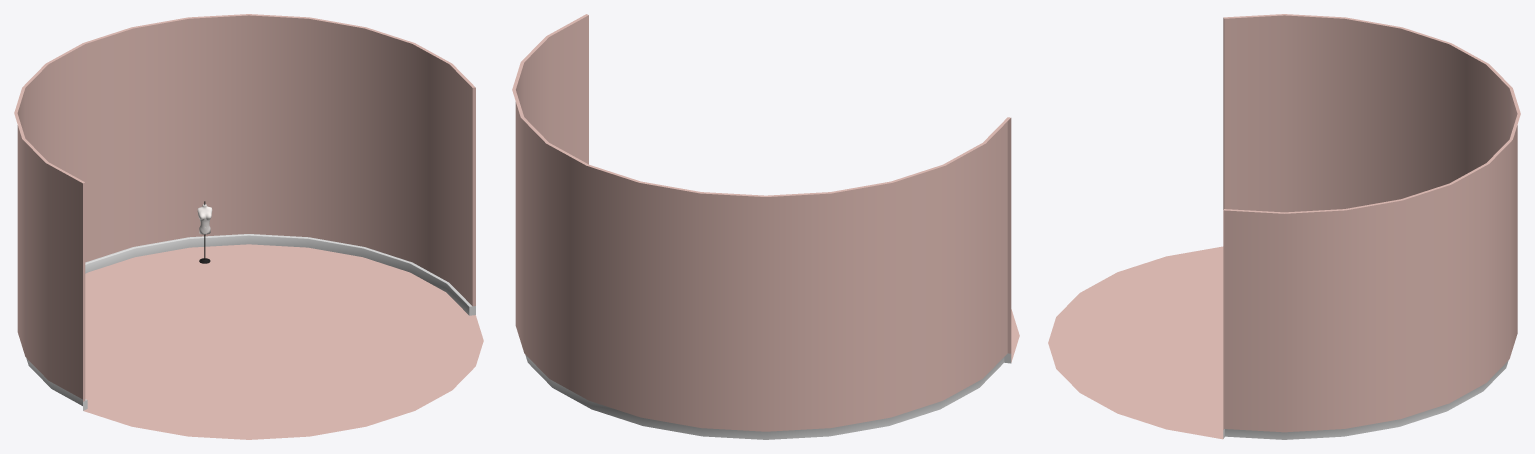
Rendered from ThriftShopEnv.fbx.
3 renders of one model, left to right at view 1: azimuth 30°, elevation 25°; view 2: azimuth 150°, elevation 25°; view 3: azimuth 270°, elevation 25°, orthographic. The views are drawn at different scales.
Parts seen in each view (by area): view 1: Cylinder.001, Cylinder, Mannequin; view 2: Cylinder.001, Cylinder; view 3: Cylinder.001, Cylinder.
Part boxes in pixels (left/top/right/bottom): Cylinder.001: left=14, top=14, right=475, bottom=401; Cylinder: left=26, top=234, right=483, bottom=439; Mannequin: left=197, top=201, right=212, bottom=263; Cylinder.001: left=512, top=14, right=1011, bottom=431; Cylinder: left=525, top=309, right=1019, bottom=439; Cylinder.001: left=1223, top=14, right=1520, bottom=432; Cylinder: left=1048, top=246, right=1508, bottom=439.
Bounding box in the file's own units: 1173 × 628 × 1173.
